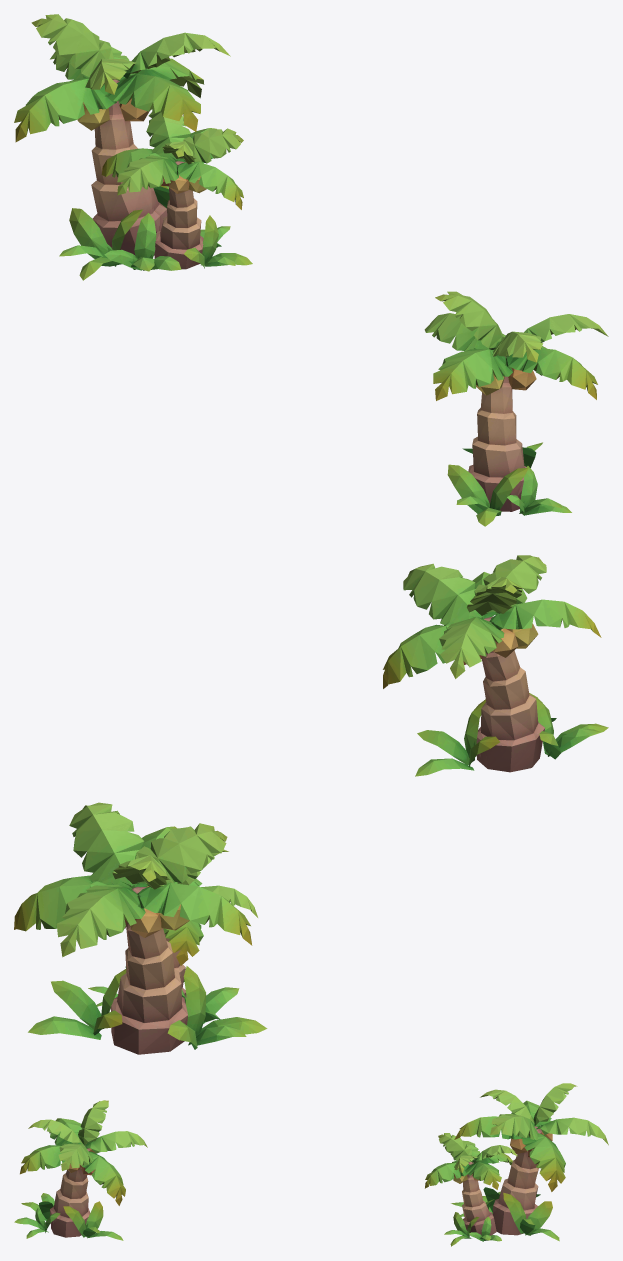
File: Props.fbx
3 renders of one model, top to bottom at view 1: azimuth 30°, elevation 25°; view 2: azimuth 150°, elevation 25°; view 3: azimuth 270°, elevation 25°, orthographic. The views are drawn at different scales.
Visible parts, largest first — view 1: yezishu01, yezishu02; view 2: yezishu01, yezishu02; view 3: yezishu01, yezishu02.
Boxes of the visible parts, x1,y1,x2,y2 form: yezishu01: [14, 14, 252, 280]; yezishu02: [424, 291, 608, 526]; yezishu01: [14, 802, 267, 1054]; yezishu02: [383, 555, 608, 776]; yezishu01: [425, 1083, 608, 1246]; yezishu02: [14, 1100, 147, 1240].
Bounding box in the file's own units: 9.08 × 8.33 × 33.42.
Materials: 1 (1 with a texture image).
